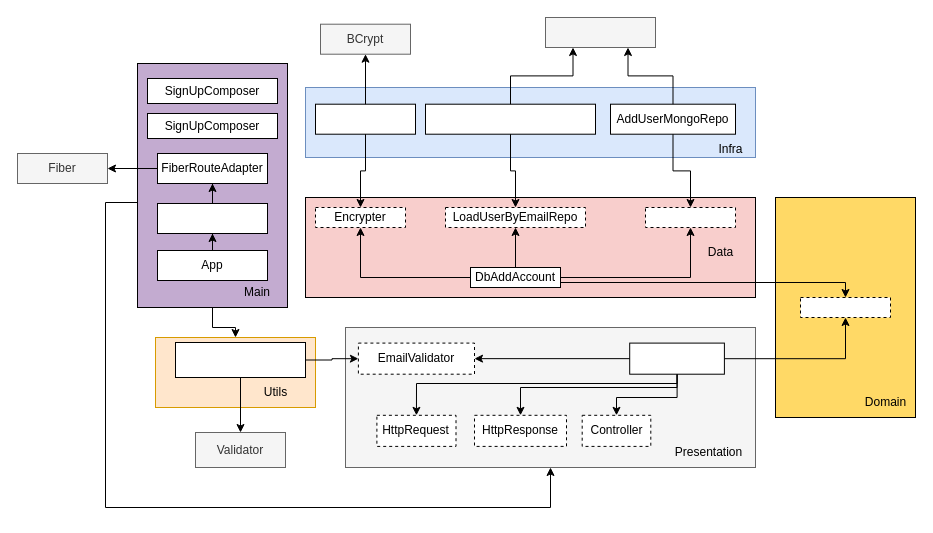
This 933x533 diagram has some shape labels left out. Here are the shapes that lost their labels. From the top down, the box of each, then its label:
(544, 16, 656, 48): MongoDB
(314, 103, 416, 134): BCryptAdapter
(424, 103, 596, 134): LoadUserByEmailMongoRepo
(156, 202, 268, 234): SignUpRoute
(644, 206, 736, 228): AddUserRepo
(800, 296, 890, 318): AddAccount
(174, 342, 306, 378): EmailValidatorAdapter
(629, 342, 724, 374): SignController
